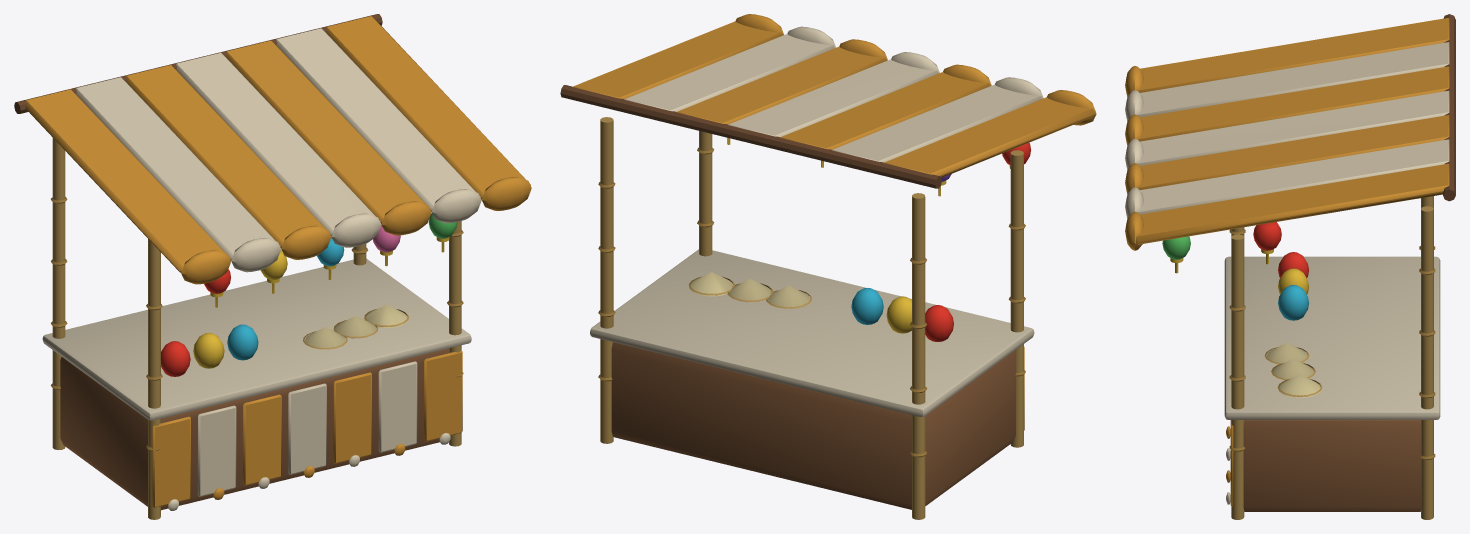
The model's file is pp-stall-chunam.glb.
The picture shows the model from 3 angles, left to right: view 1: azimuth 30°, elevation 25°; view 2: azimuth 150°, elevation 25°; view 3: azimuth 270°, elevation 25°; orthographic projection. The views are drawn at different scales.
Bounding box in the file's own units: 3.2 × 2.91 × 2.55.
